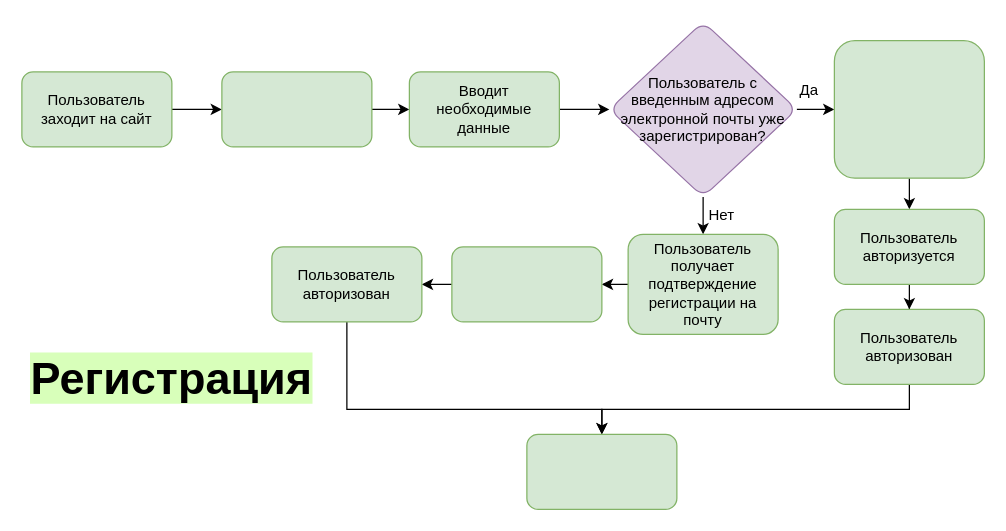
Some shapes in this 1006 by 531 pixel diagram are drawn without their labels. Here are the shapes that lost their labels. From the top down, the centre of each, then its label:
point (296, 109): Переходит на страницу регистрации
point (908, 108): "Вы уже зарегистрированы". Пользователя перенаправляют на страницу авторизации.
point (526, 284): Переходит по ссылке в письме
point (601, 471): Вход выполнен
